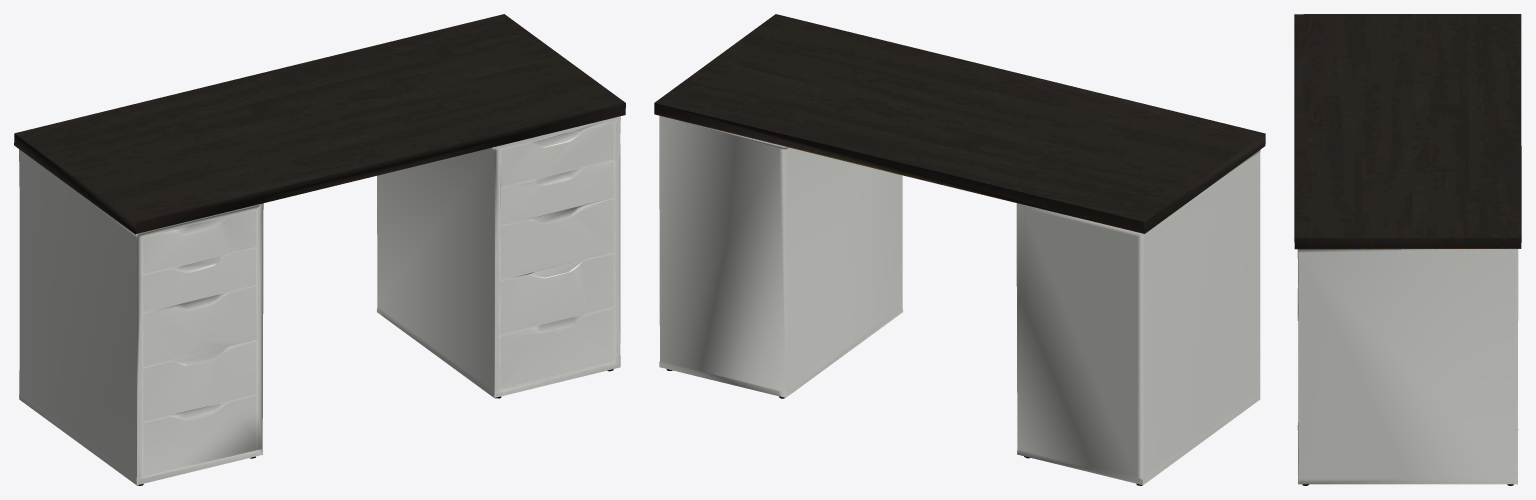
File: lagkapten_alex_desk_black_brown_white.glb
The picture shows the model from 3 angles, left to right: view 1: azimuth 30°, elevation 25°; view 2: azimuth 150°, elevation 25°; view 3: azimuth 270°, elevation 25°; orthographic projection. The views are drawn at different scales.
Parts seen in each view (by area): view 1: ProcessedMeshNode; view 2: ProcessedMeshNode; view 3: ProcessedMeshNode.
Part boxes in pixels (bbox=[...]): ProcessedMeshNode: bbox=[14, 14, 625, 485]; ProcessedMeshNode: bbox=[654, 14, 1265, 485]; ProcessedMeshNode: bbox=[1294, 14, 1521, 485].
Bounding box in the file's own units: 1.4 × 0.7352 × 0.6007.
1 material, 1 textured.
